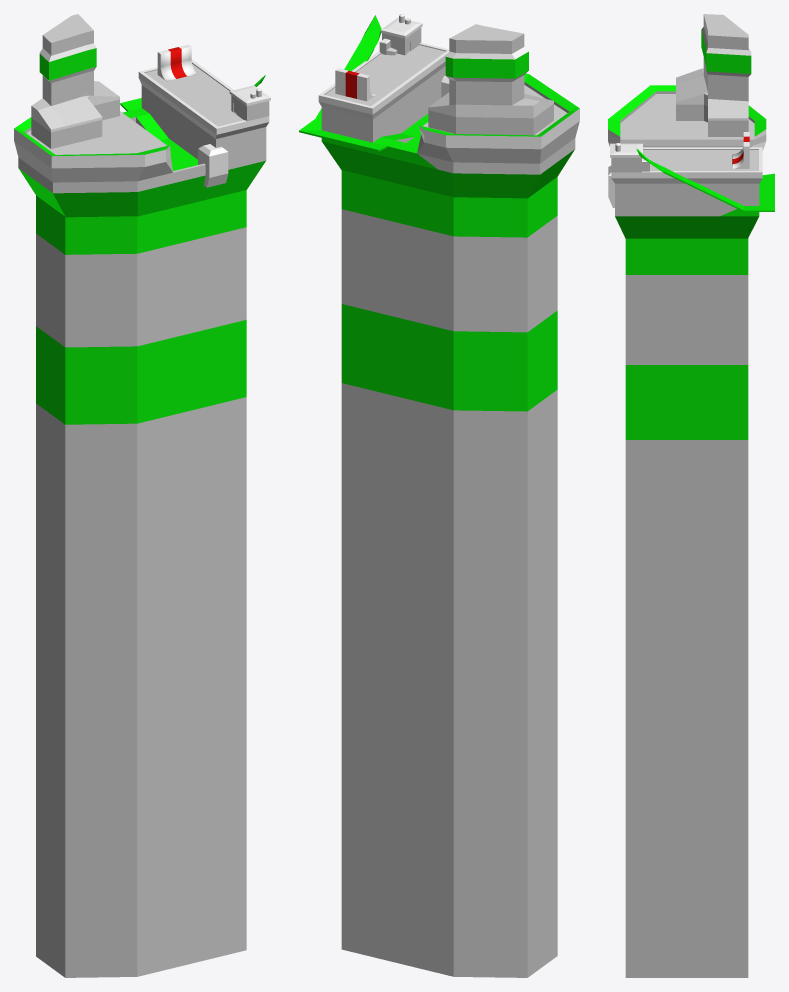
Rendered from level2fix.glb.
The picture shows the model from 3 angles, left to right: view 1: azimuth 30°, elevation 25°; view 2: azimuth 150°, elevation 25°; view 3: azimuth 270°, elevation 25°; orthographic projection. The views are drawn at different scales.
Parts seen in each view (by area): view 1: Roof1-base, Roof1-col, HalfPipe-col; view 2: Roof1-base, Roof1-col, Walkway-col, HalfPipe-col; view 3: Roof1-base, Roof1-col, Walkway-col, HalfPipe-col.
Boxes of the visible parts, <box> form: Roof1-base: <box>36,190,246,977</box>; Roof1-col: <box>14,14,270,217</box>; HalfPipe-col: <box>157,44,196,81</box>; Roof1-base: <box>341,170,557,977</box>; Roof1-col: <box>318,14,579,198</box>; Walkway-col: <box>299,15,386,151</box>; HalfPipe-col: <box>335,68,375,101</box>; Roof1-base: <box>625,238,748,977</box>; Roof1-col: <box>608,14,766,238</box>; Walkway-col: <box>636,149,774,211</box>; HalfPipe-col: <box>732,132,749,168</box>.
Bounding box in the file's own units: 81.74 × 340 × 57.82.
